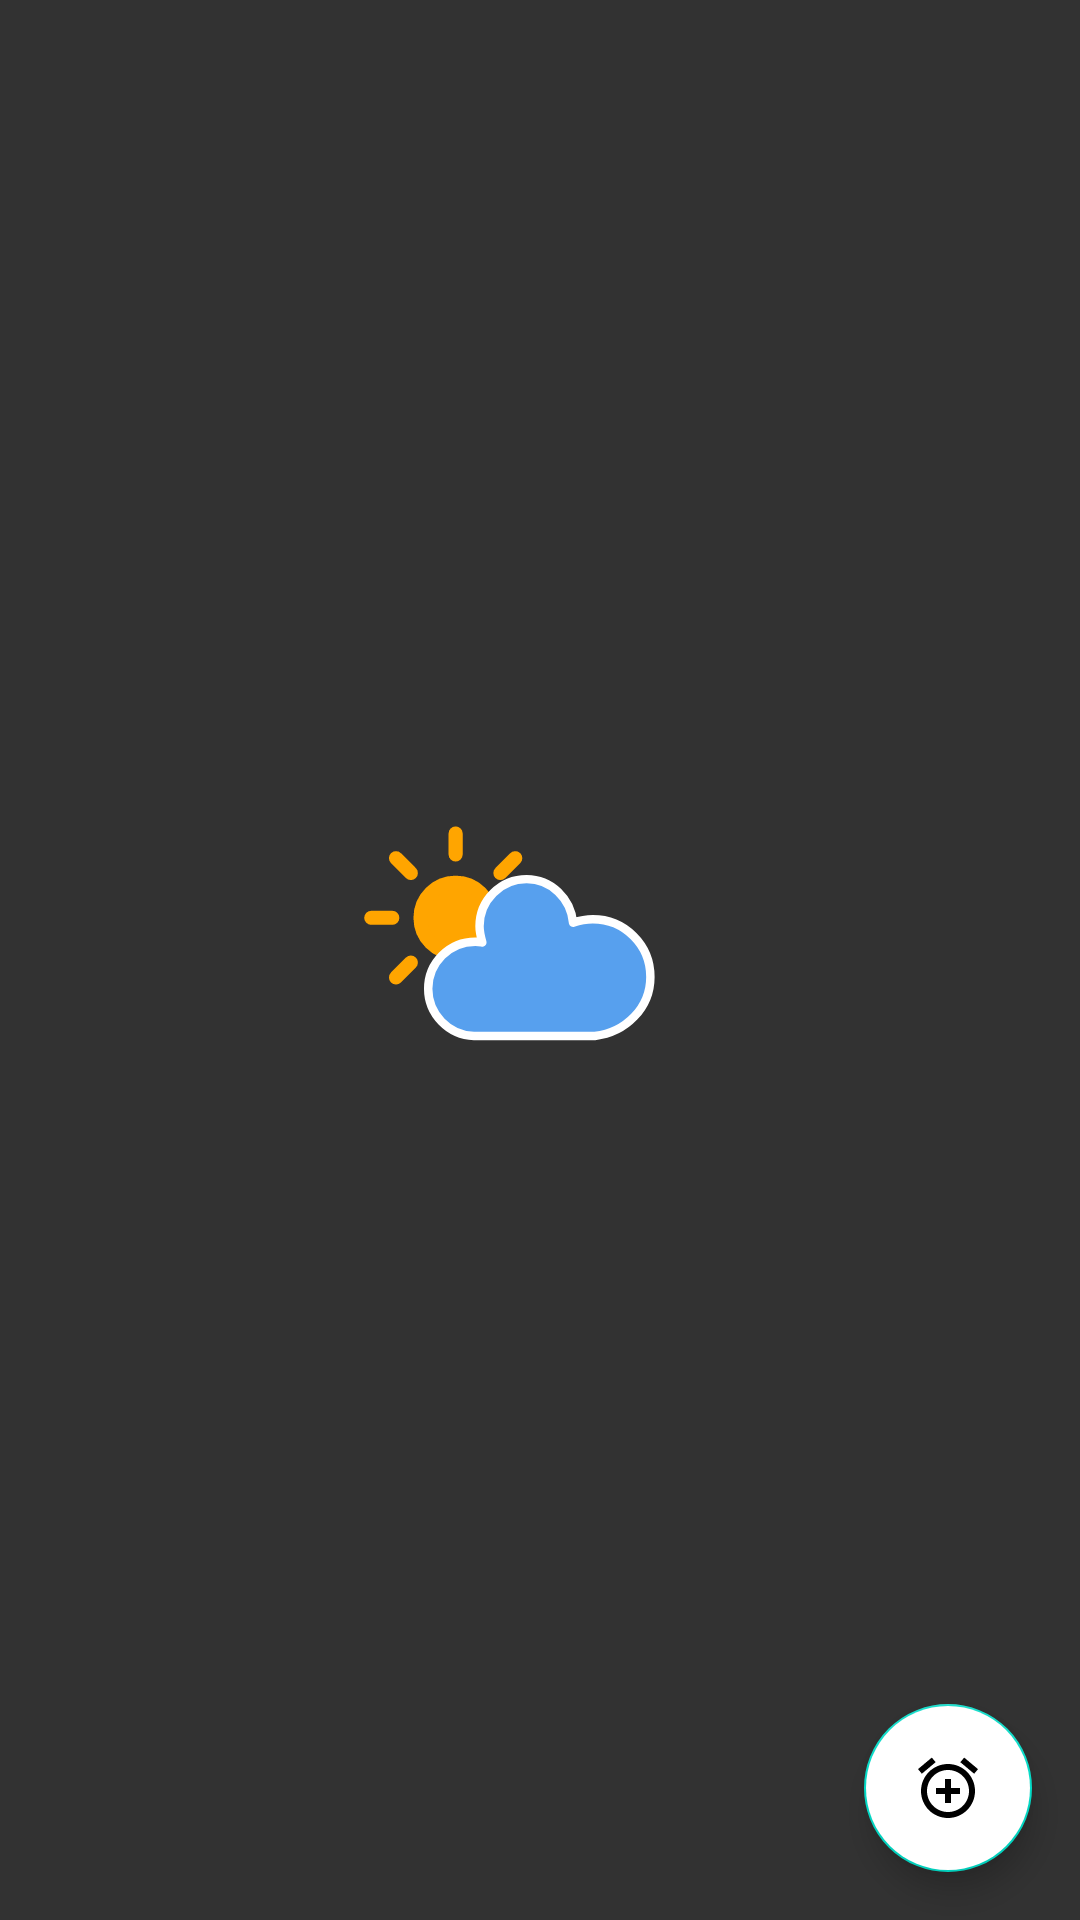

Named icons in this screenshot (1080×1920) and their centers, (x,y):
alarm add: (948,1788)
